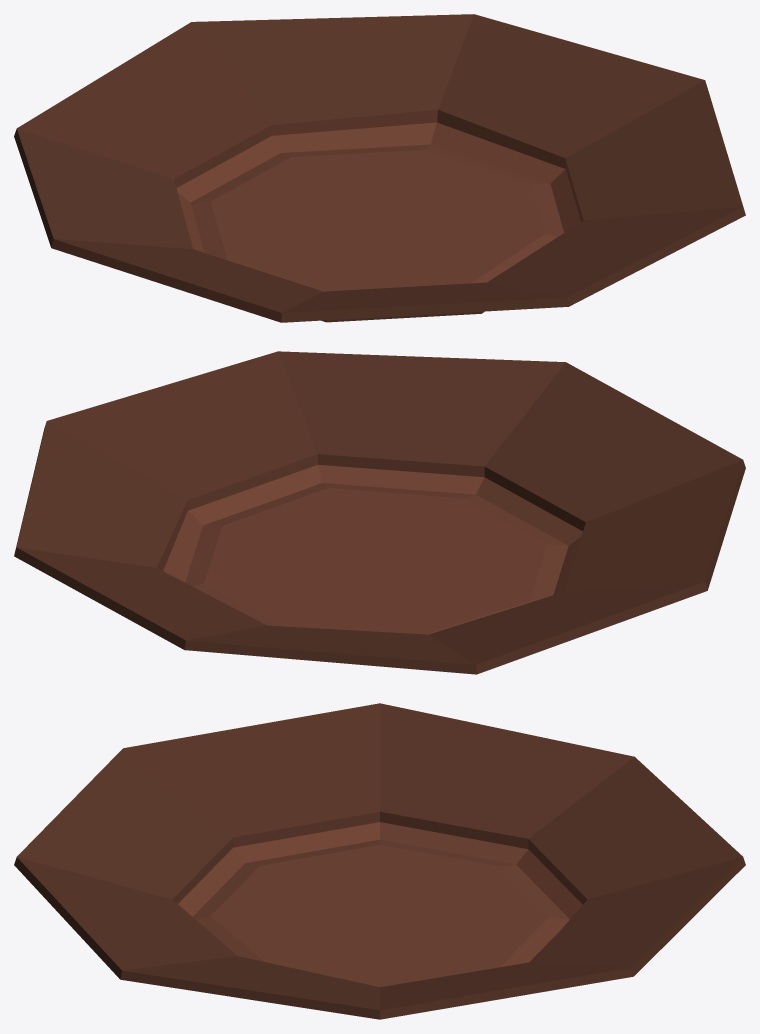
File: Plate_01.gltf
3 views of the same model, one above another, from view 1: azimuth 30°, elevation 25°; view 2: azimuth 150°, elevation 25°; view 3: azimuth 270°, elevation 25° (orthographic). The views are drawn at different scales.
Visible parts, largest first — view 1: plate; view 2: plate; view 3: plate.
Part boxes in pixels (<box>): plate: <box>14,14,745,322</box>; plate: <box>14,351,745,674</box>; plate: <box>14,703,745,1019</box>.
Bounding box in the file's own units: 0.1458 × 0.0172 × 0.1458.
Materials: 1 (1 with a texture image).
